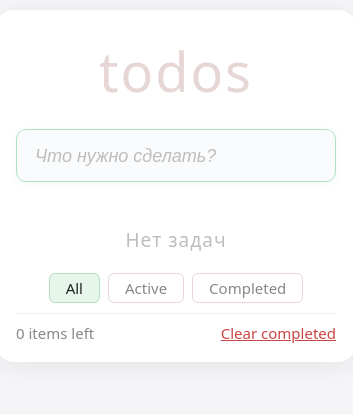
Test: Фильтрация задач работает корректно
Type "Активная" into the field with placeholder "Что нужно сделать?". click: (176,156)
box: [16,129,336,182]
Press Enter in the field with placeholder "Что нужно сделать?", box [16,129,336,182]
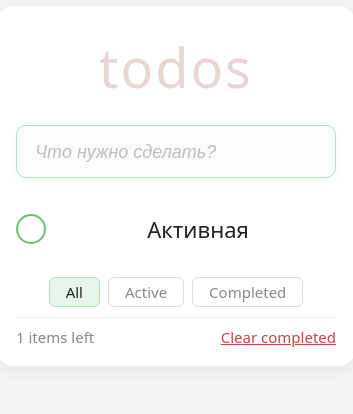
Type "Завершённая" into the field with placeholder "Что нужно сделать?". click: (176,151)
box: [16,125,336,178]
Press Enter in the field with placeholder "Что нужно сделать?", box [16,125,336,178]
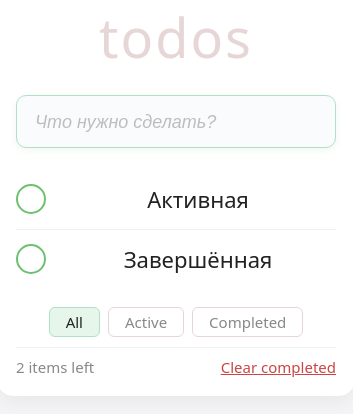
Завершаем вторую задачу
Click the checkbox "Завершённая". click: (144,259)
box: [16,244,272,274]
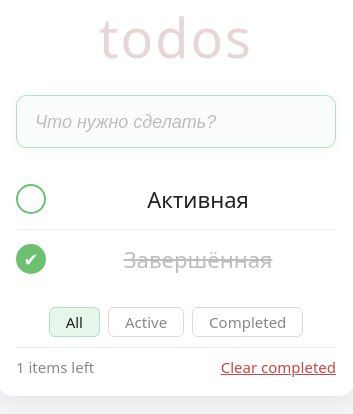
Фильтр Active
Click the button "Active". click: (146,322)
box: [108,307,184,337]
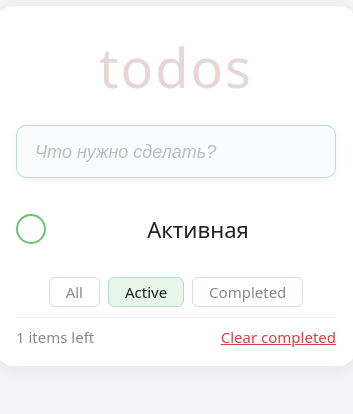
Expected: the text "Активная" is shown, [147,214,249,244]
Expected: the checkbox "Завершённая" is gone
Фильтр Completed
Click the button "Completed". click: (248,292)
box: [192,277,303,307]
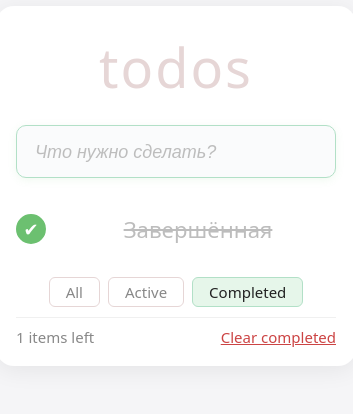
Expected: the text "Завершённая" is shown, [124,214,272,244]
Expected: the checkbox "Активная" is gone
Фильтр All
Click the button "All". click: (74,292)
box: [49,277,100,307]
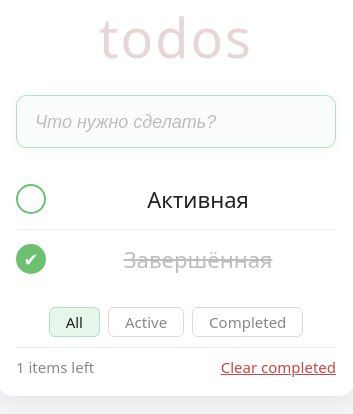
Expected: the text "Завершённая" is shown, [124,244,272,274]
Expected: the text "Активная" is shown, [147,184,249,214]
